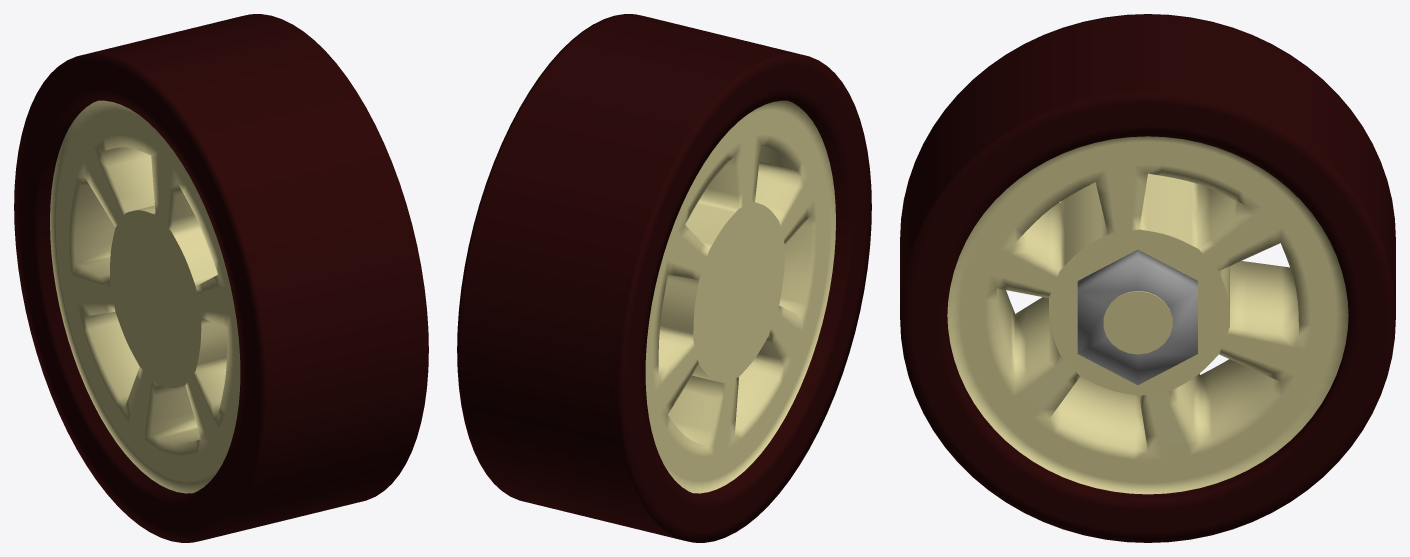
The model's file is rueda tuerca del otro lado.FBX.
The picture shows the model from 3 angles, left to right: view 1: azimuth 30°, elevation 25°; view 2: azimuth 150°, elevation 25°; view 3: azimuth 270°, elevation 25°; orthographic projection.
Visible parts, largest first — view 1: Llanta_TD001; view 2: Llanta_TD001; view 3: Llanta_TD001.
Part boxes in pixels (x1,y1,x2,y2): Llanta_TD001: (14, 14, 428, 542); Llanta_TD001: (457, 14, 871, 542); Llanta_TD001: (900, 14, 1395, 542).
Bounding box in the file's own units: 25.9 × 64.53 × 64.53.
